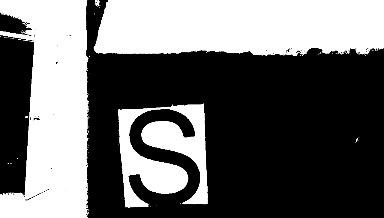S: (121, 105, 208, 205)
